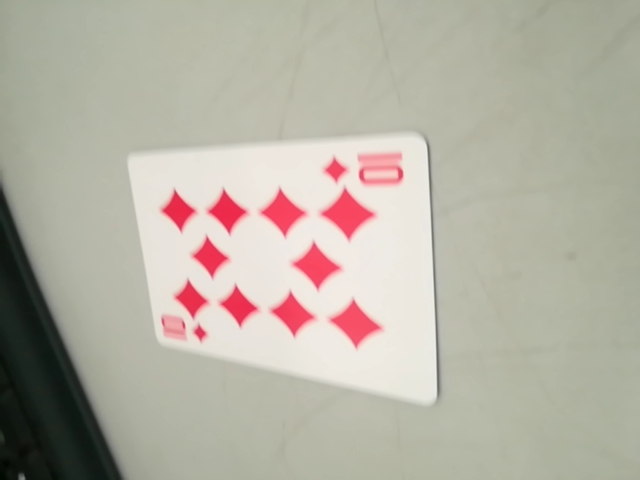fk 10: (323, 141, 412, 196), (157, 309, 213, 353)
